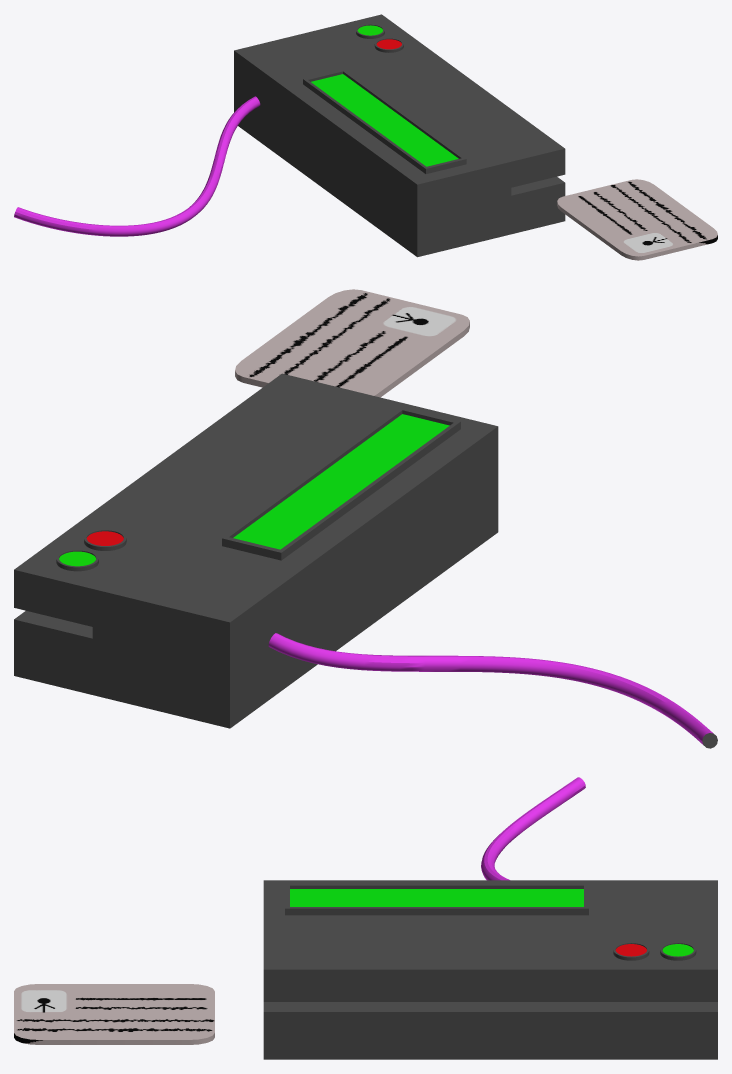
The model's file is CreditCardReader.fbx.
3 views of the same model, one above another, from view 1: azimuth 30°, elevation 25°; view 2: azimuth 150°, elevation 25°; view 3: azimuth 270°, elevation 25° (orthographic). The views are drawn at different scales.
Parts seen in each view (by area): view 1: CreditCardReader, CreditCard; view 2: CreditCardReader, CreditCard; view 3: CreditCardReader, CreditCard.
Part boxes in pixels (box(x1,y1,x2,y2)): CreditCardReader: box(14, 14, 565, 257); CreditCard: box(557, 179, 717, 260); CreditCardReader: box(14, 373, 717, 748); CreditCard: box(235, 289, 469, 397); CreditCardReader: box(263, 777, 717, 1059); CreditCard: box(14, 984, 214, 1044).
Bounding box in the file's own units: 304 × 47.07 × 310.
Materials: 6 (1 with a texture image).
